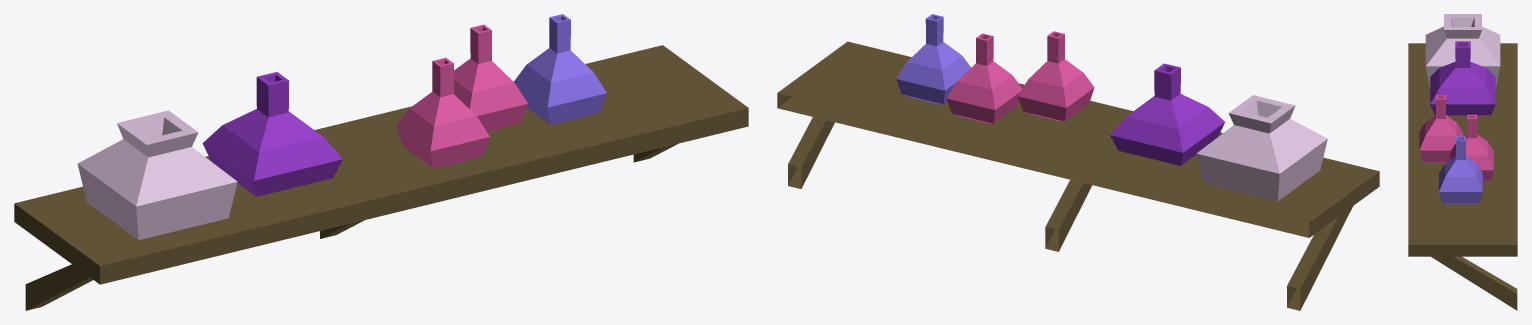
File: Wall Shelf 04.FBX
3 views of the same model, side by side, from view 1: azimuth 30°, elevation 25°; view 2: azimuth 150°, elevation 25°; view 3: azimuth 270°, elevation 25° (orthographic). The views are drawn at different scales.
Visible parts, largest first — view 1: Wall Shelf 04; view 2: Wall Shelf 04; view 3: Wall Shelf 04.
Boxes of the visible parts, x1,y1,x2,y2 form: Wall Shelf 04: (14,14,748,310); Wall Shelf 04: (777,14,1379,310); Wall Shelf 04: (1408,14,1517,310).
Bounding box in the file's own units: 349 × 110 × 80.
